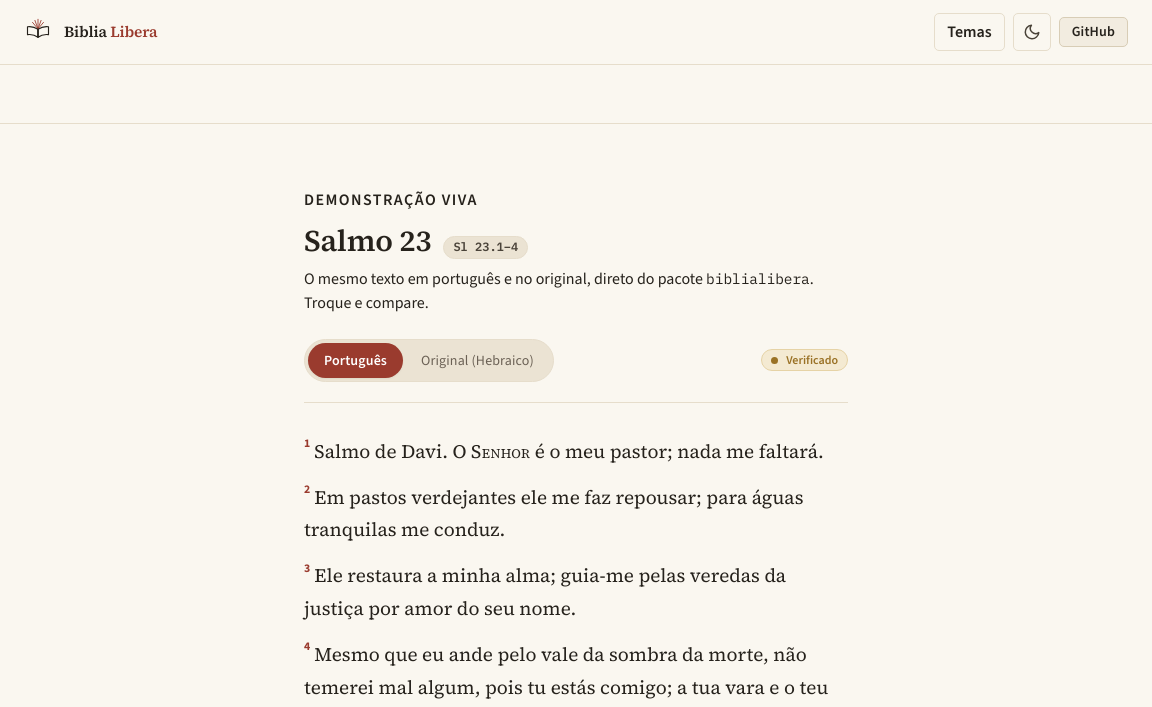
Test case: Landing › lets the visitor switch the demo to the original text
(page scrolled)
Click the radio button labelled "Original (Hebraico)".
click(477, 360)  # box [405,343,550,378]
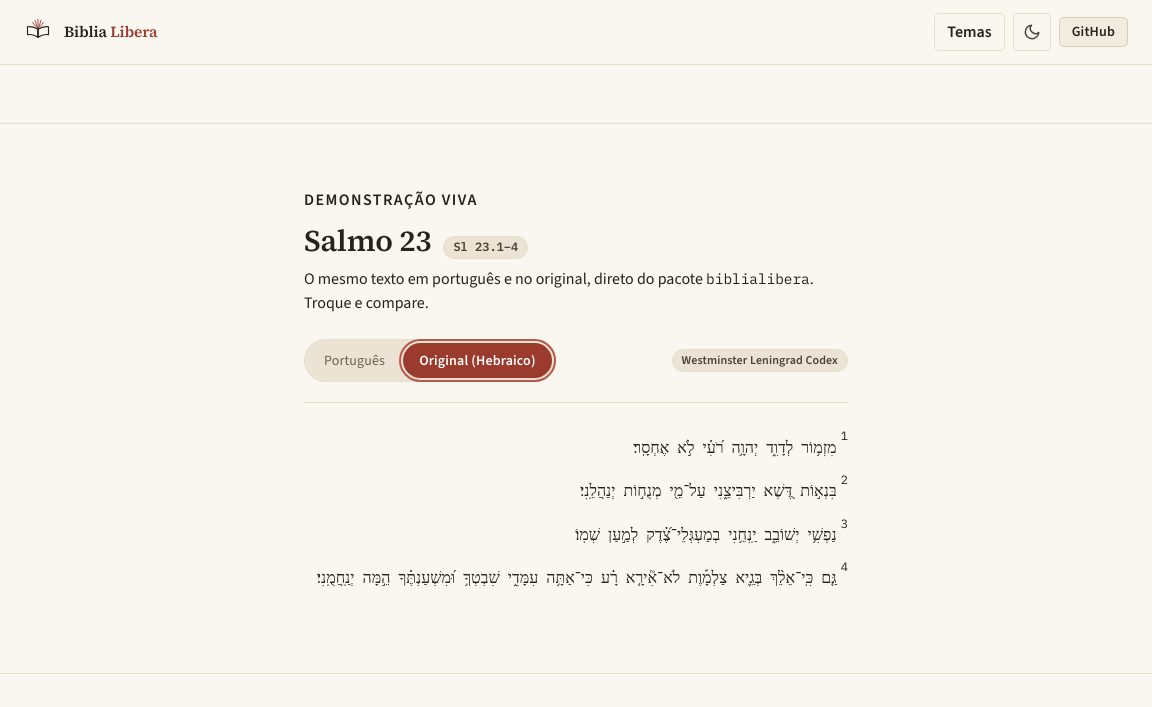
Result: the text "1מִזְמ֥וֹר לְדָוִ֑ד יְהוָ֥ה רֹ֝עִ֗י לֹ֣א אֶחְסָֽר׃" is shown at [633,428,848,459]
